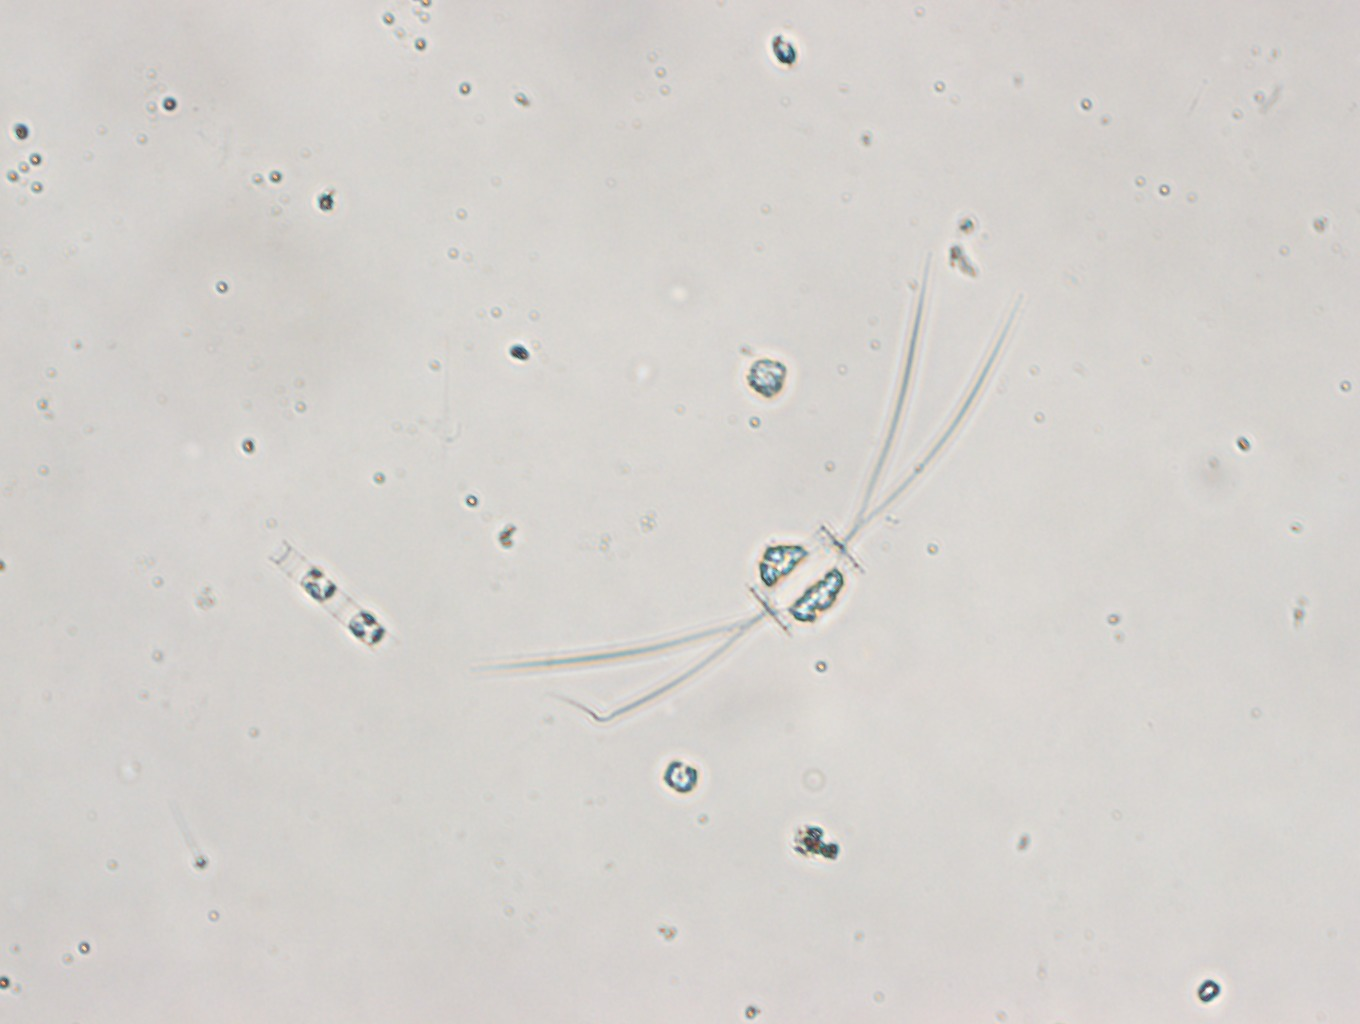chaetoceros: (535, 259, 1026, 719)
